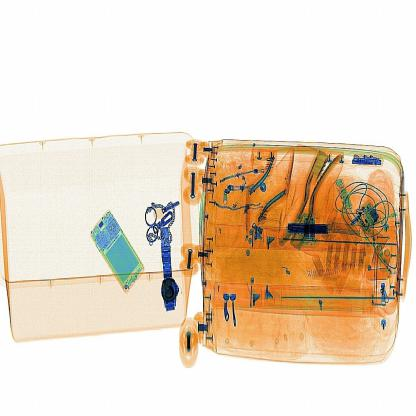scissors: (286, 215, 337, 250)
